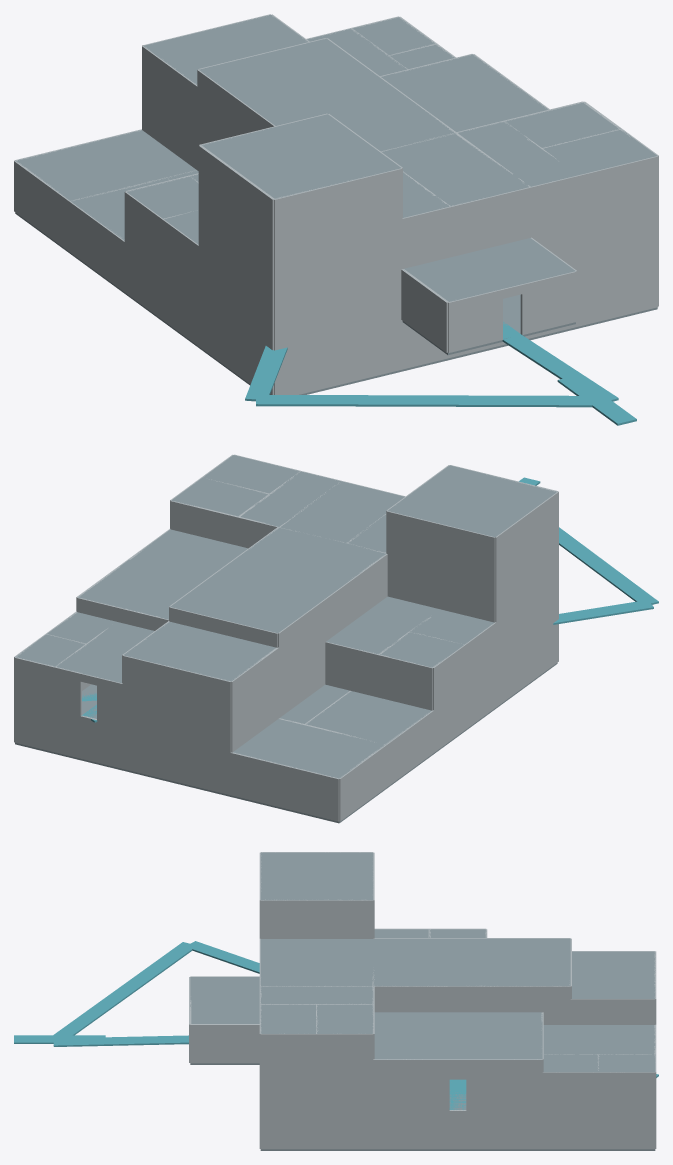
File: furnished.glb
The picture shows the model from 3 angles, top to bottom: view 1: azimuth 30°, elevation 25°; view 2: azimuth 150°, elevation 25°; view 3: azimuth 270°, elevation 25°; orthographic projection. The views are drawn at different scales.
Parts seen in each view (by area): view 1: Ceiling cap nave, Ceiling cap belfry, Wall crypt-memorial S, Ceiling cap chapel, Wall vault-west-a W, Wall belfry S, Wall tower-stair S, Ceiling cap vestibule, Ceiling cap choir, Wall crypt-entry S, Ceiling cap chancel, Wall chancel W (+36 smaller); view 2: Wall vault-north N, Ceiling cap nave, Wall chancel N, Ceiling cap chapel, Ceiling cap belfry, Wall nave W, Ceiling cap chancel, Wall vault-west-a W, Wall belfry N, Wall tower-stair N, Ceiling cap choir, Wall chancel W (+37 smaller); view 3: Ceiling cap nave, Ceiling cap chapel, Wall vault-east E, Ceiling cap belfry, Wall belfry E, Wall crypt-entry E, Wall crypt-stair E, Ceiling cap chancel, Wall chapel E, Wall chapel E.001, Ceiling cap choir, Ceiling cap vestry (+25 smaller).
Boxes of the visible parts, box(x1,y1,x2,y2) form: Ceiling cap nave: box(199, 38, 454, 151); Ceiling cap belfry: box(201, 114, 401, 198); Wall crypt-memorial S: box(274, 320, 466, 394); Ceiling cap chapel: box(381, 54, 548, 131); Wall vault-west-a W: box(69, 201, 198, 345); Wall belfry S: box(274, 168, 402, 249); Wall tower-stair S: box(274, 219, 402, 300); Ceiling cap vestibule: box(403, 238, 575, 301); Ceiling cap choir: box(381, 133, 528, 206); Wall crypt-entry S: box(532, 207, 658, 276); Ceiling cap chancel: box(143, 15, 308, 84); Wall chancel W: box(142, 46, 197, 169); Wall vault-north N: box(14, 700, 339, 821); Ceiling cap nave: box(170, 527, 386, 633); Wall chancel N: box(122, 655, 231, 752); Ceiling cap chapel: box(78, 529, 247, 619); Ceiling cap belfry: box(387, 465, 557, 537); Wall nave W: box(278, 579, 352, 718); Ceiling cap chancel: box(123, 622, 275, 681); Wall vault-west-a W: box(386, 665, 496, 786); Wall belfry N: box(386, 511, 495, 579); Wall tower-stair N: box(387, 554, 495, 622); Ceiling cap choir: box(280, 481, 404, 543); Wall chancel W: box(231, 647, 278, 752); Ceiling cap nave: box(373, 938, 570, 986); Ceiling cap chapel: box(374, 1012, 542, 1059); Wall vault-east E: box(373, 1110, 570, 1149); Ceiling cap belfry: box(260, 852, 373, 900); Wall belfry E: box(260, 899, 373, 938); Wall crypt-entry E: box(260, 1072, 373, 1110); Wall crypt-stair E: box(260, 1111, 373, 1149); Ceiling cap chancel: box(572, 951, 655, 998); Wall chapel E: box(466, 1059, 542, 1110); Wall chapel E.001: box(373, 1059, 449, 1110); Ceiling cap choir: box(260, 956, 373, 986); Ceiling cap vestry: box(543, 1025, 655, 1054).
Bounding box in the file's own units: 28.54 × 12.16 × 45.76.
